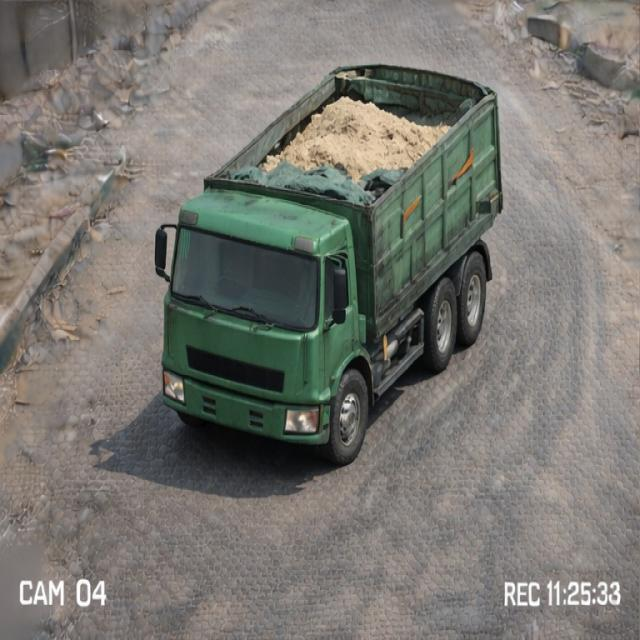trailer: (204, 62, 500, 219)
truck: (151, 44, 525, 462)
